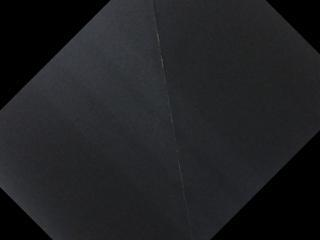crack: (146, 0, 199, 240)
